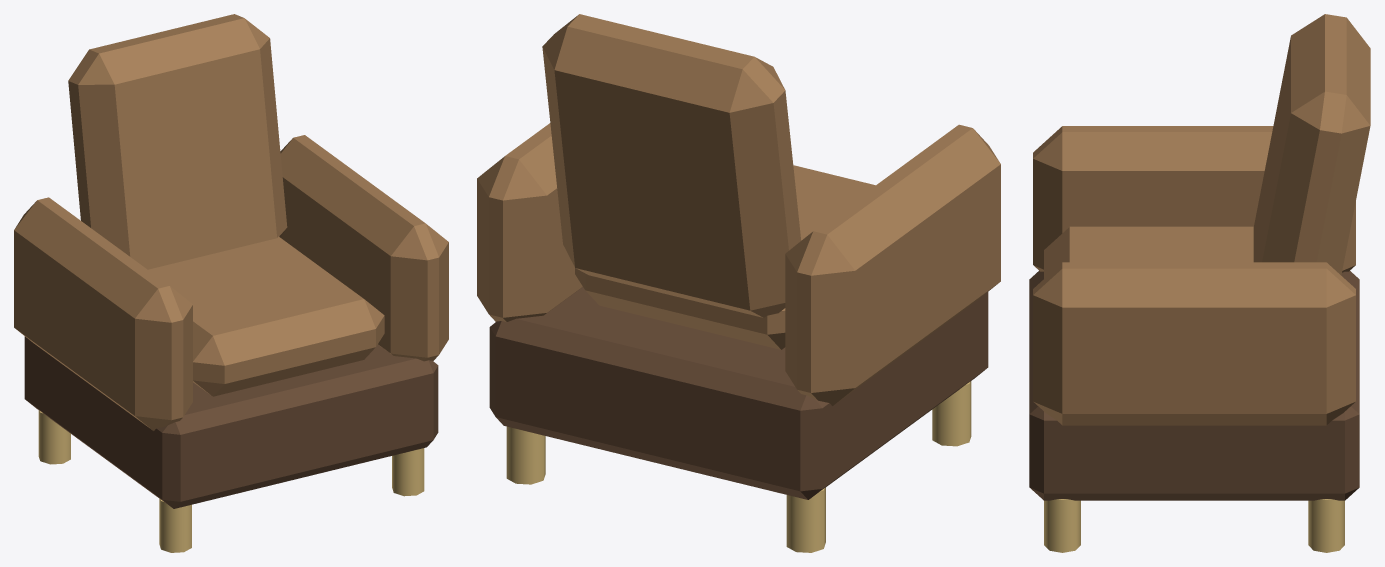
Rendered from hm_armchair.glb.
The picture shows the model from 3 angles, left to right: view 1: azimuth 30°, elevation 25°; view 2: azimuth 150°, elevation 25°; view 3: azimuth 270°, elevation 25°; orthographic projection. The views are drawn at different scales.
Parts seen in each view (by area): view 1: hm_armchair; view 2: hm_armchair; view 3: hm_armchair.
Boxes of the visible parts, left/top/right/bottom form: hm_armchair: left=14, top=14, right=448, bottom=552; hm_armchair: left=477, top=14, right=1000, bottom=552; hm_armchair: left=1029, top=14, right=1370, bottom=552.
Size of the model in its own units: 1.08 by 1.29 by 0.9296.
